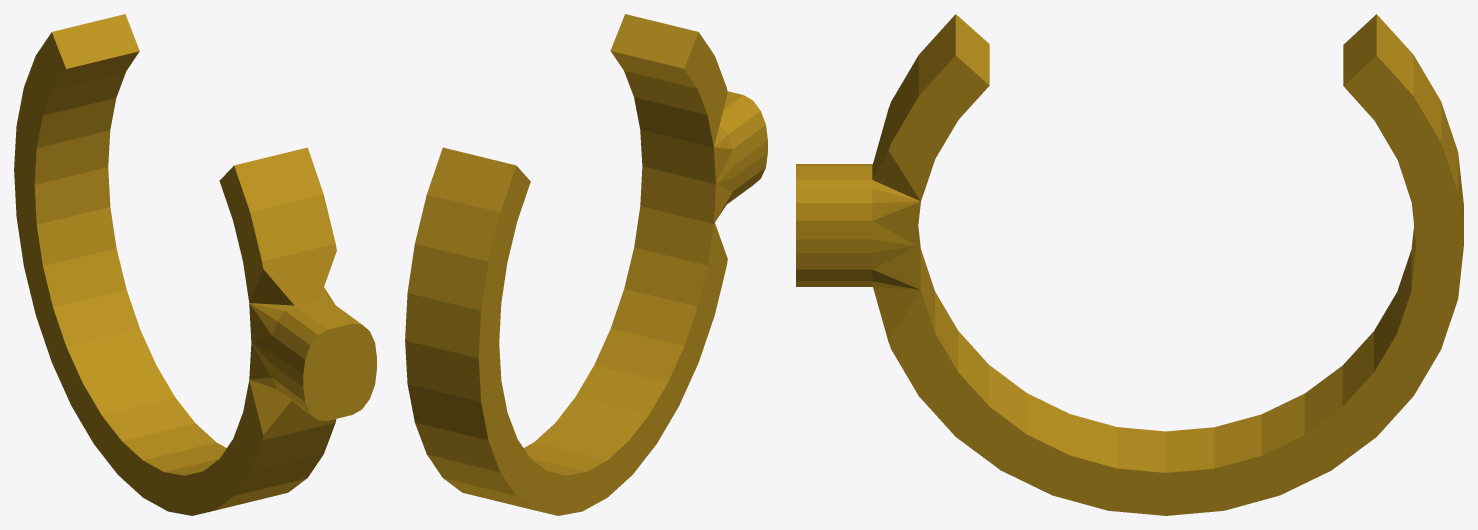
The model's file is VIS_ForearmInterface.dae.
3 views of the same model, side by side, from view 1: azimuth 30°, elevation 25°; view 2: azimuth 150°, elevation 25°; view 3: azimuth 270°, elevation 25° (orthographic). The views are drawn at different scales.
Visible parts, largest first — view 1: VIS_ForearmInterface; view 2: VIS_ForearmInterface; view 3: VIS_ForearmInterface.
Boxes of the visible parts, x1=… form: VIS_ForearmInterface: x1=14, y1=14, x2=376, y2=515; VIS_ForearmInterface: x1=405, y1=14, x2=767, y2=515; VIS_ForearmInterface: x1=796, y1=14, x2=1463, y2=515.
Size of the model in its own units: 0.0117 by 0.0798 by 0.0607.
